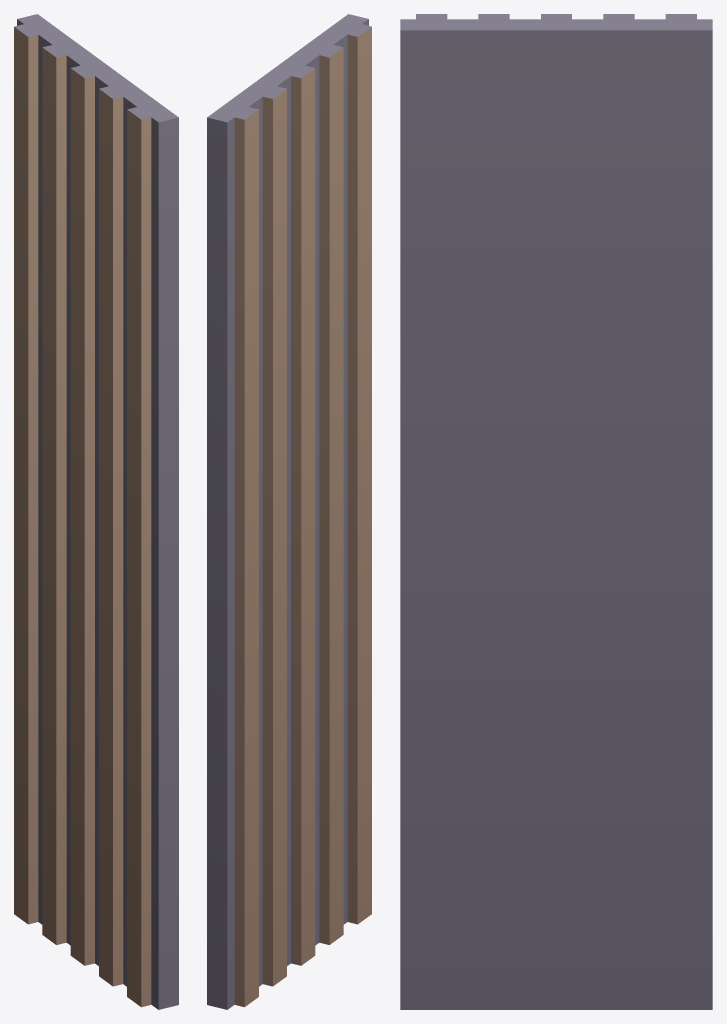
File: wood-panel-tall (%wall).glb
3 renders of one model, left to right at view 1: azimuth 30°, elevation 25°; view 2: azimuth 150°, elevation 25°; view 3: azimuth 270°, elevation 25°, orthographic. The views are drawn at different scales.
Visible parts, largest first — view 1: wood-panel-tall (%wall); view 2: wood-panel-tall (%wall); view 3: wood-panel-tall (%wall).
Boxes of the visible parts, box(x1,y1,x2,y2) form: wood-panel-tall (%wall): box(14, 14, 178, 1009); wood-panel-tall (%wall): box(207, 14, 371, 1009); wood-panel-tall (%wall): box(400, 14, 712, 1009).
Size of the model in its own units: 0.075 by 2.08 by 0.6.
